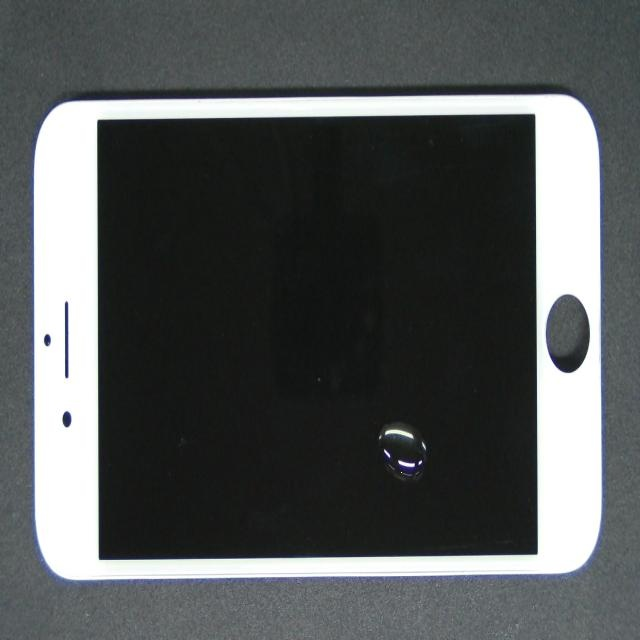oil: (187, 195, 568, 640)
